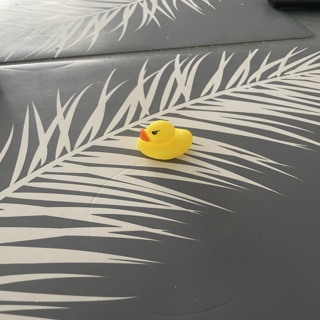duck_regular: (137, 118, 194, 159)
